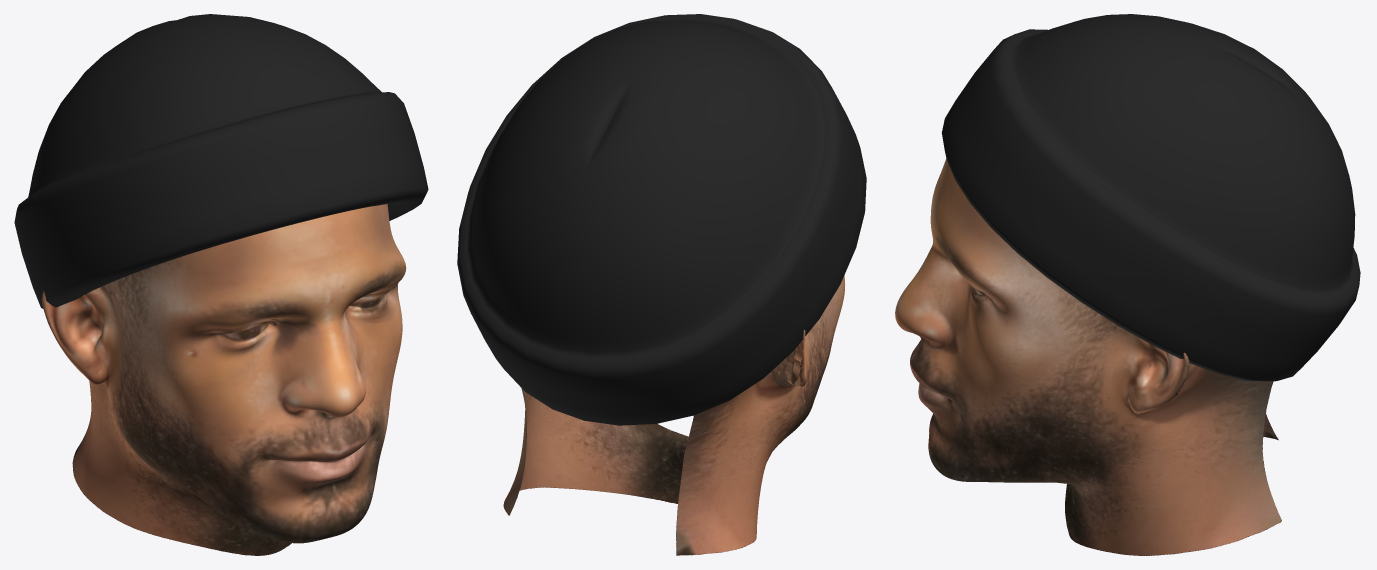
The model's file is Joseph 2.fbx.
3 renders of one model, left to right at view 1: azimuth 30°, elevation 25°; view 2: azimuth 150°, elevation 25°; view 3: azimuth 270°, elevation 25°, orthographic.
Visible parts, largest first — view 1: FaceBuilderHead, beanie; view 2: beanie, FaceBuilderHead; view 3: beanie, FaceBuilderHead.
Boxes of the visible parts, bbox=[...] form: FaceBuilderHead: bbox=[41, 204, 406, 555]; beanie: bbox=[14, 14, 428, 308]; beanie: bbox=[457, 14, 866, 425]; FaceBuilderHead: bbox=[503, 275, 844, 555]; beanie: bbox=[942, 14, 1360, 381]; FaceBuilderHead: bbox=[895, 159, 1281, 555].
Size of the model in its own units: 164 by 231 by 197.
Materials: 2 (1 with a texture image).
